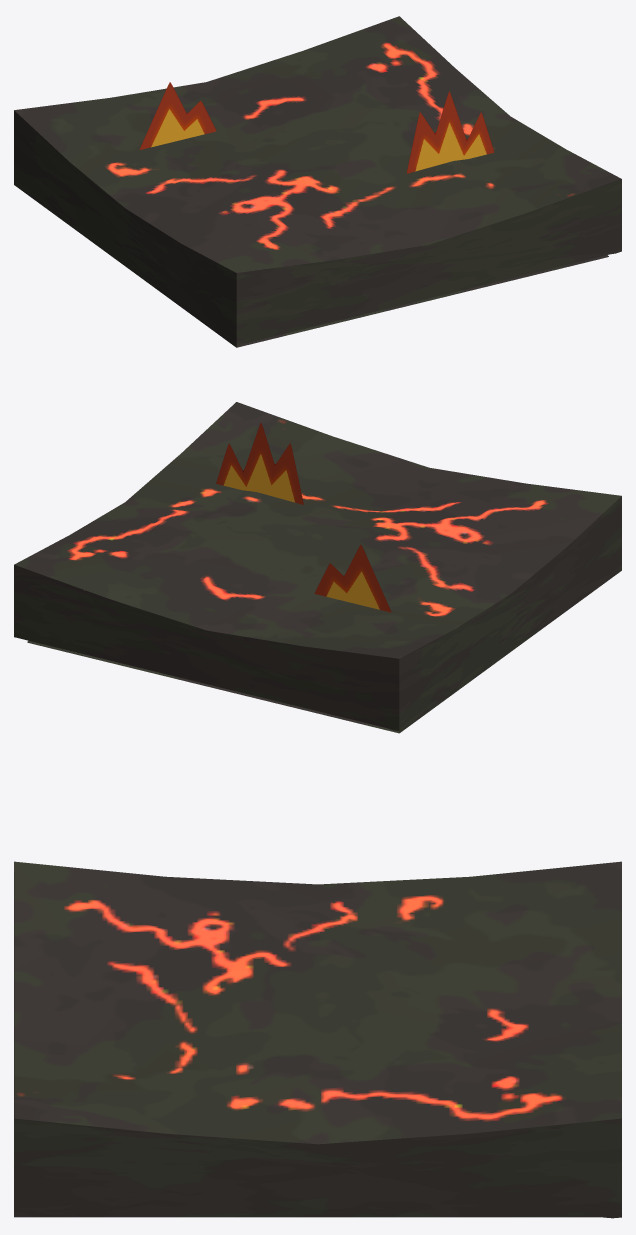
The model's file is 2FireTile.fbx.
3 renders of one model, top to bottom at view 1: azimuth 30°, elevation 25°; view 2: azimuth 150°, elevation 25°; view 3: azimuth 270°, elevation 25°, orthographic. The views are drawn at different scales.
Visible parts, largest first — view 1: 2FireTile, 1BurningFire.003, 1BurningFire.004; view 2: 2FireTile, 1BurningFire.003, 1BurningFire.004; view 3: 2FireTile.
Boxes of the visible parts, left/top/right/bottom form: 2FireTile: left=14, top=16, right=621, bottom=347; 1BurningFire.003: left=406, top=91, right=494, bottom=173; 1BurningFire.004: left=139, top=82, right=216, bottom=149; 2FireTile: left=14, top=402, right=621, bottom=733; 1BurningFire.003: left=216, top=422, right=303, bottom=504; 1BurningFire.004: left=314, top=544, right=391, bottom=612; 2FireTile: left=14, top=861, right=621, bottom=1218.
Size of the model in its own units: 200 by 86.35 by 200.
3 materials, 3 textured.
